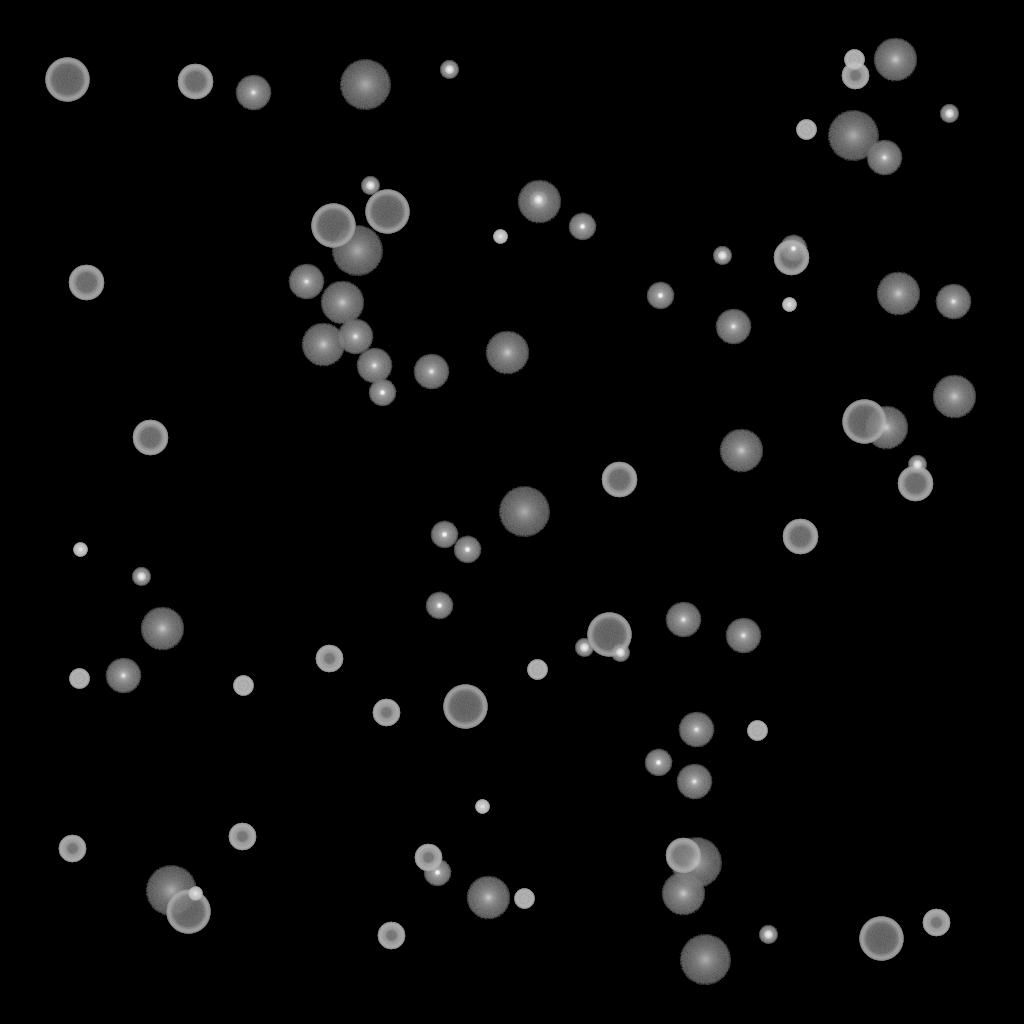depth:-10: (368, 379, 396, 407), (644, 749, 672, 777), (425, 592, 453, 620), (453, 536, 481, 564), (779, 235, 807, 263), (423, 859, 451, 887), (568, 213, 596, 241), (430, 521, 458, 549), (646, 282, 674, 310)
depth:-20: (361, 177, 379, 195), (940, 105, 958, 123), (713, 247, 731, 265), (529, 191, 547, 209), (759, 926, 777, 944), (908, 456, 926, 474), (132, 568, 150, 586), (611, 644, 629, 662), (575, 639, 593, 657), (440, 61, 458, 79)
depth:-30: (73, 543, 87, 557), (475, 800, 489, 814), (188, 887, 202, 901), (782, 298, 796, 312), (493, 230, 507, 244)
depth:-40: (796, 120, 816, 140), (747, 721, 767, 741), (514, 889, 534, 909), (233, 676, 253, 696), (527, 660, 547, 680), (844, 50, 864, 70), (69, 669, 89, 689)
depth:-50: (228, 823, 256, 851), (315, 645, 343, 673), (922, 909, 950, 937), (58, 835, 86, 863), (841, 62, 869, 90), (372, 699, 400, 727), (414, 844, 442, 872), (377, 922, 405, 950)
depth:-60: (132, 420, 168, 456), (782, 519, 818, 555), (601, 462, 637, 498), (177, 64, 213, 100), (897, 466, 933, 502), (665, 838, 701, 874), (773, 240, 809, 276), (68, 265, 104, 301)
depth:-70: (311, 204, 355, 248), (842, 400, 886, 444), (859, 917, 903, 961), (166, 890, 210, 934), (45, 58, 89, 102), (443, 685, 487, 729), (365, 190, 409, 234), (587, 613, 631, 657)
depth:0: (715, 309, 751, 345), (866, 140, 902, 176), (105, 658, 141, 694), (337, 319, 373, 355), (725, 618, 761, 654), (235, 75, 271, 111), (678, 712, 714, 748), (413, 354, 449, 390), (288, 264, 324, 300), (356, 348, 392, 384), (665, 602, 701, 638), (935, 284, 971, 320), (676, 764, 712, 800)
depth:10: (466, 876, 510, 920), (140, 607, 184, 651), (320, 281, 364, 325), (876, 272, 920, 316), (485, 331, 529, 375), (873, 38, 917, 82), (301, 323, 345, 367), (661, 872, 705, 916), (932, 375, 976, 419), (517, 180, 561, 224), (719, 429, 763, 473), (864, 406, 908, 450)
depth:20: (331, 226, 383, 276), (498, 487, 550, 537), (339, 60, 391, 110), (145, 866, 197, 916), (670, 838, 722, 888), (827, 111, 879, 161), (679, 935, 731, 985)
